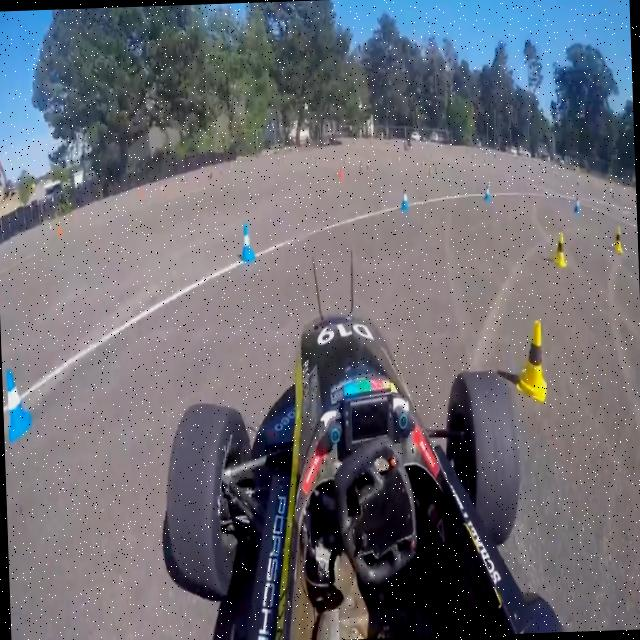blue_cone: (2, 362, 33, 446), (240, 220, 257, 264), (400, 186, 411, 214), (482, 182, 491, 204), (572, 195, 580, 215)
yellow_cone: (513, 315, 550, 404), (552, 229, 568, 269), (612, 224, 624, 255)
